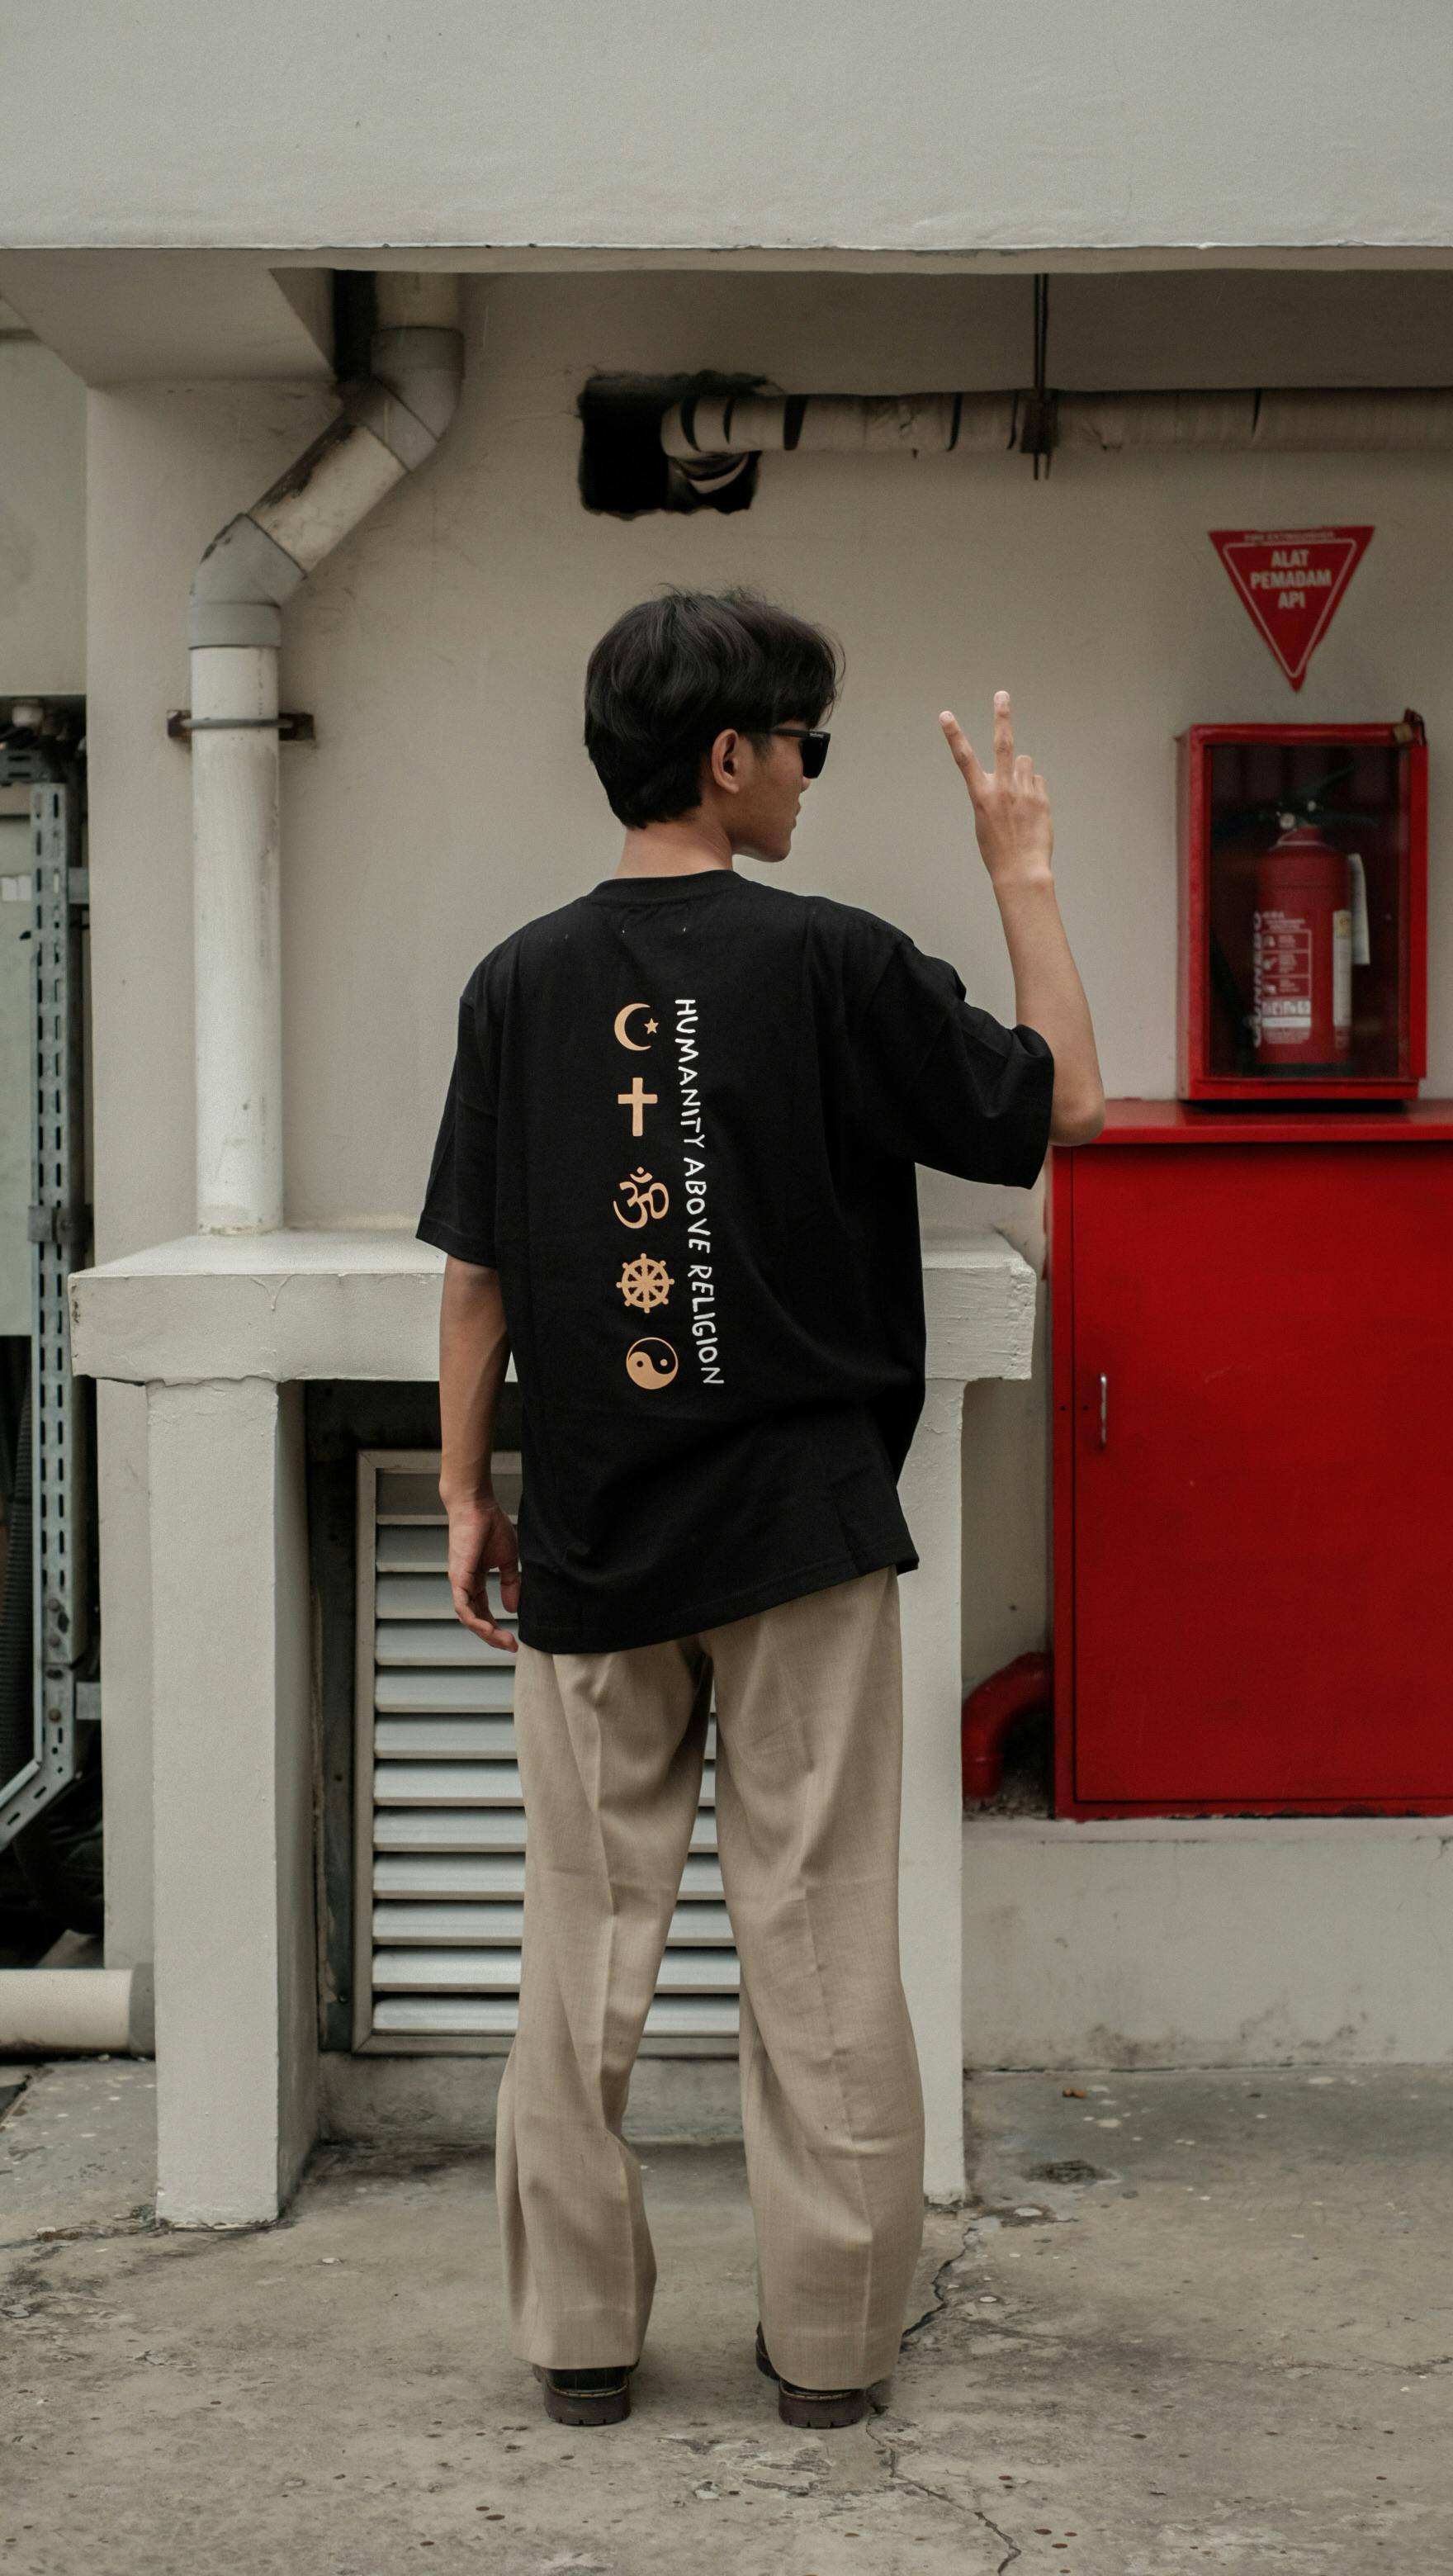extintor: (1234, 757, 1382, 1070)
